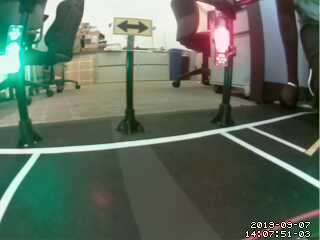Left_Right_sign: (110, 12, 154, 38)
Traffic_light_green: (7, 26, 18, 74)
Traffic_light_red: (212, 11, 236, 70)
